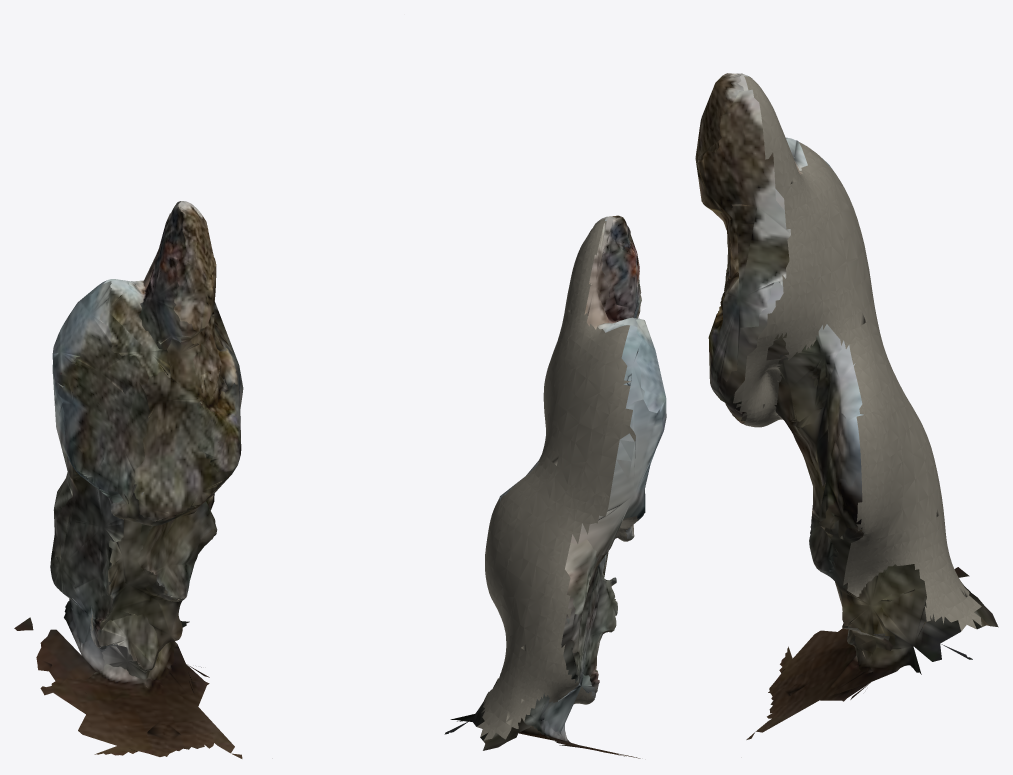
File: nuffy.glb
The picture shows the model from 3 angles, left to right: view 1: azimuth 30°, elevation 25°; view 2: azimuth 150°, elevation 25°; view 3: azimuth 270°, elevation 25°; orthographic projection. The views are drawn at different scales.
Parts seen in each view (by area): view 1: nuffy; view 2: nuffy; view 3: nuffy.
Boxes of the visible parts, x1=… form: nuffy: x1=14, y1=201, x2=243, y2=758; nuffy: x1=444, y1=215, x2=666, y2=758; nuffy: x1=695, y1=73, x2=998, y2=739.
Bounding box in the file's own units: 7.56 × 17.72 × 6.03.
1 material, 1 textured.
